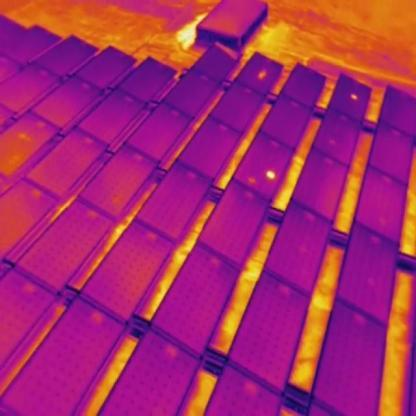anomaly: (262, 168, 279, 181), (257, 68, 267, 81), (349, 92, 360, 102)
